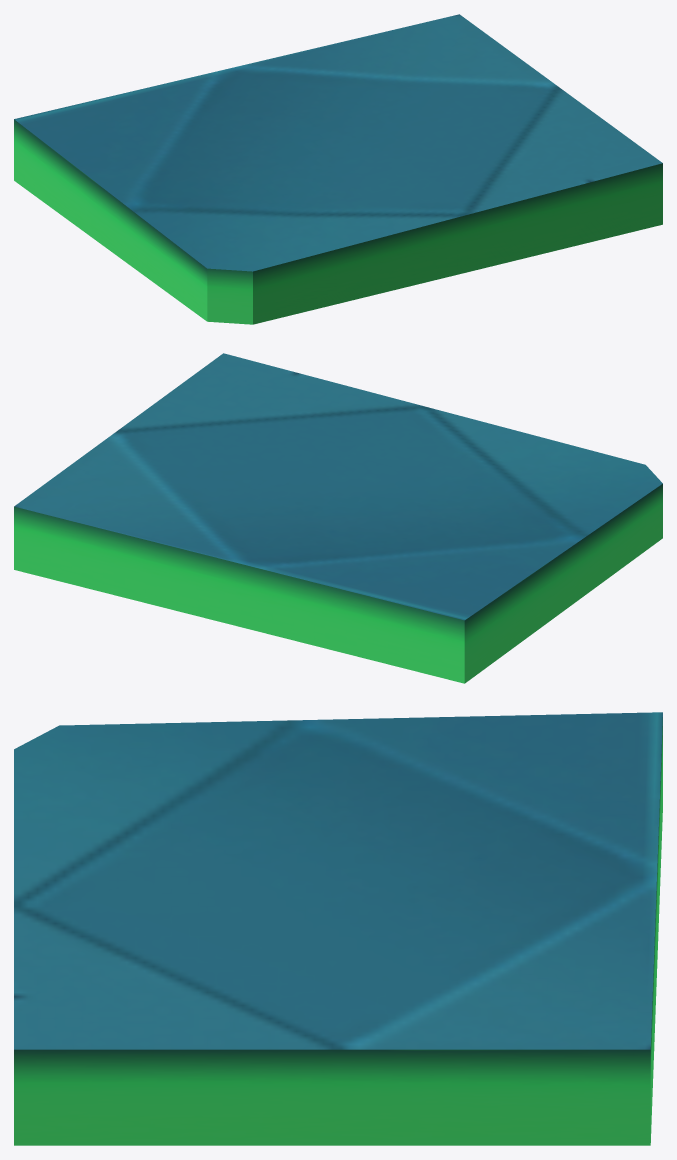
3 renders of one model, top to bottom at view 1: azimuth 30°, elevation 25°; view 2: azimuth 150°, elevation 25°; view 3: azimuth 270°, elevation 25°, orthographic. The views are drawn at different scales.
Parts seen in each view (by area): view 1: DB_A; view 2: DB_A; view 3: DB_A.
Part boxes in pixels (<box>): DB_A: <box>14,14,662,324</box>; DB_A: <box>14,353,662,683</box>; DB_A: <box>14,712,662,1145</box>.
Bounding box in the file's own units: 0.5625 × 0.0748 × 0.4574.
Materials: 1 (1 with a texture image).
